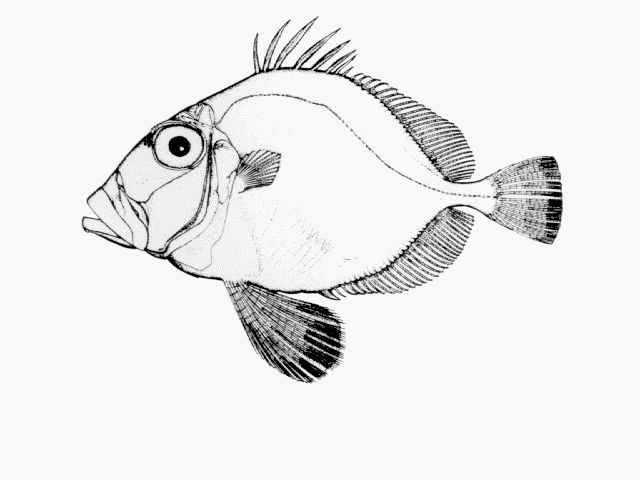fish: (83, 17, 564, 382)
